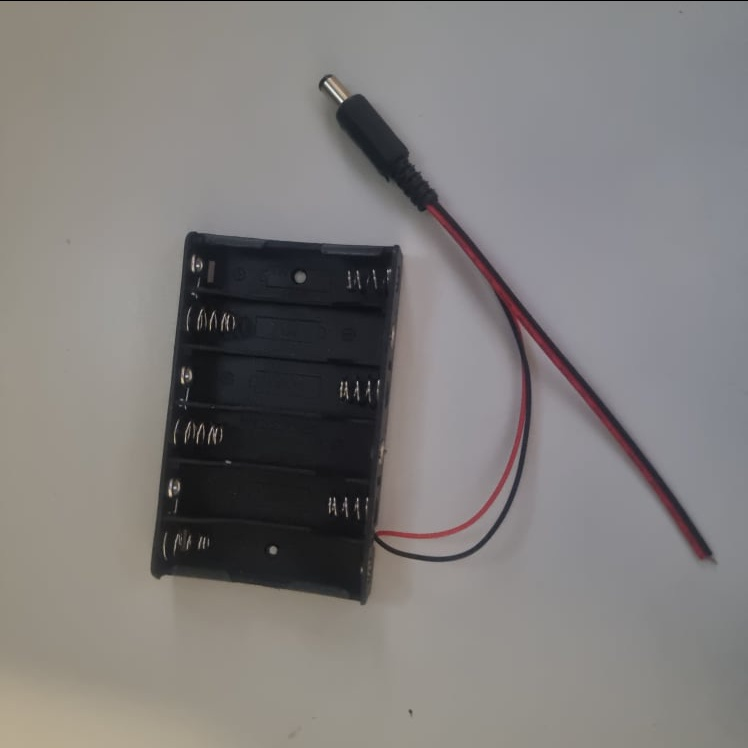BATTERY BOX: (149, 229, 406, 611)
